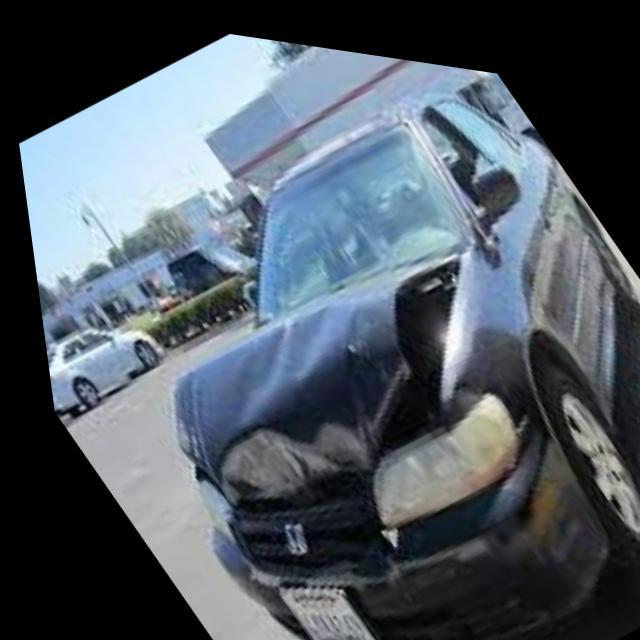dislocated part: (162, 239, 453, 504)
